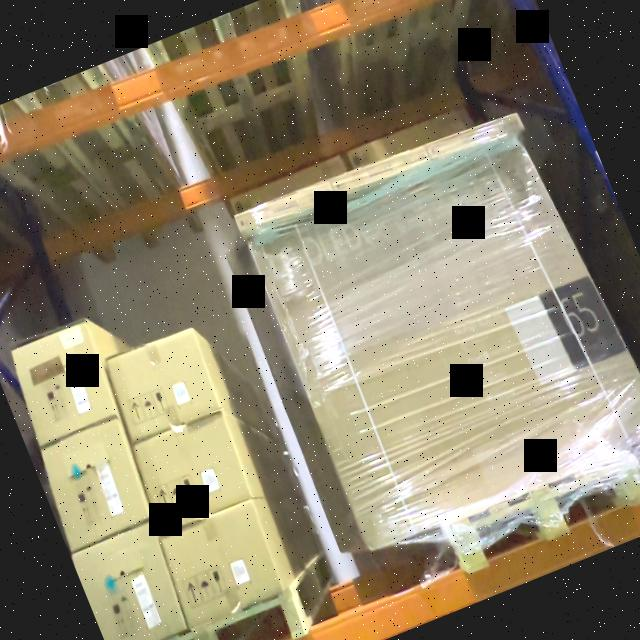box: (252, 139, 640, 546), (43, 426, 149, 546), (166, 509, 281, 618), (136, 420, 248, 528), (109, 334, 218, 438), (13, 331, 112, 439), (235, 177, 338, 238), (331, 144, 431, 199), (425, 110, 523, 162)
